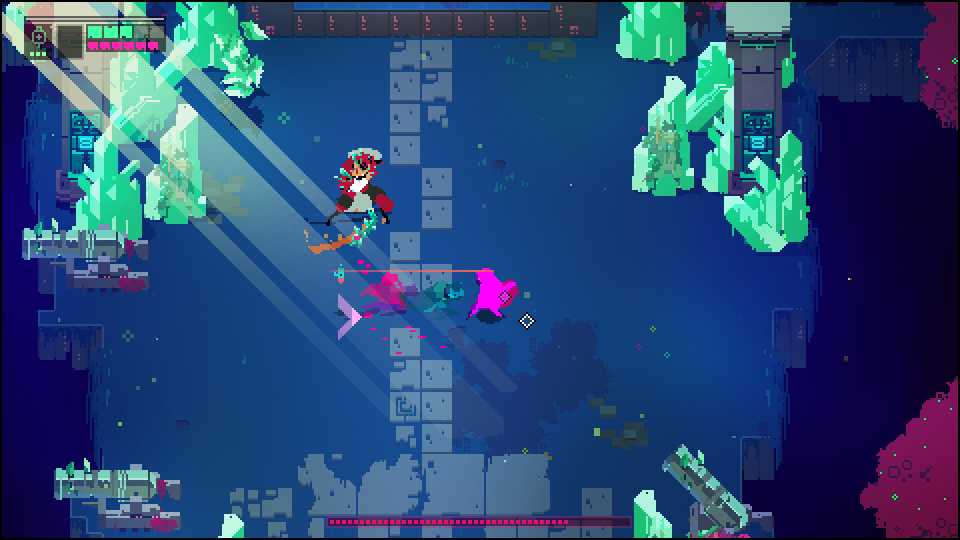hanged_man: (303, 147, 400, 251)
player: (468, 266, 515, 319)
